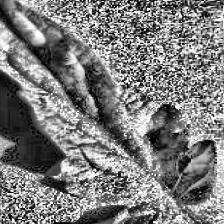leaf mold: (0, 0, 219, 204)
